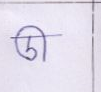i_matra: (33, 25, 50, 61)
